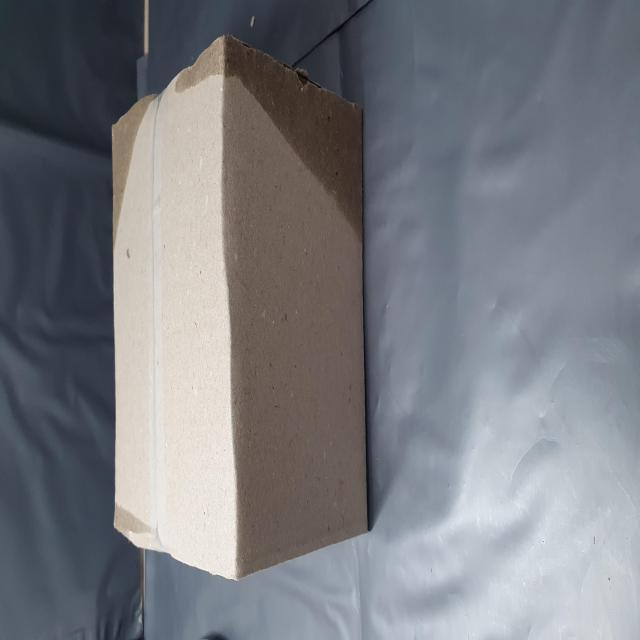wet: (210, 194, 338, 640)
